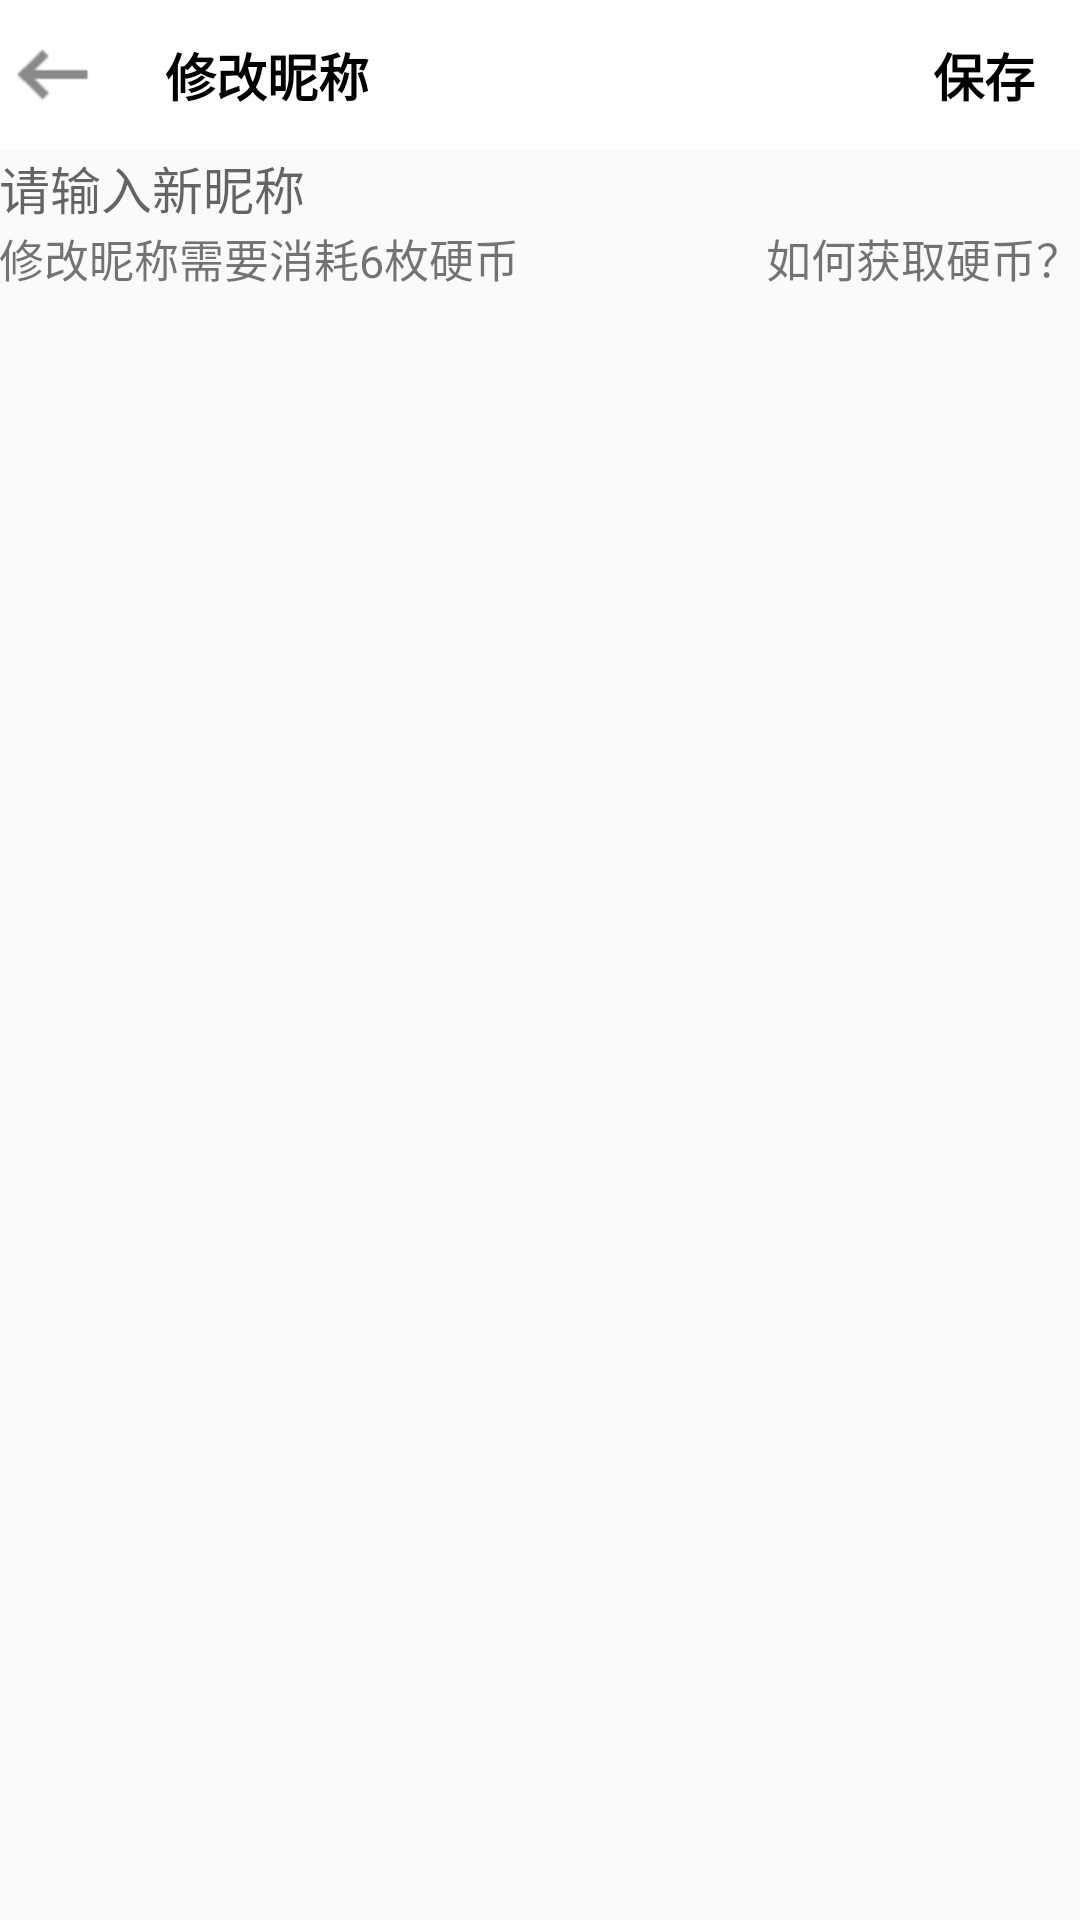

Named icons in this screenshot (1080w x 1920h) and their bounding boxes, (x1, y1, x2, y2):
left arrow: (17, 50, 88, 99)
